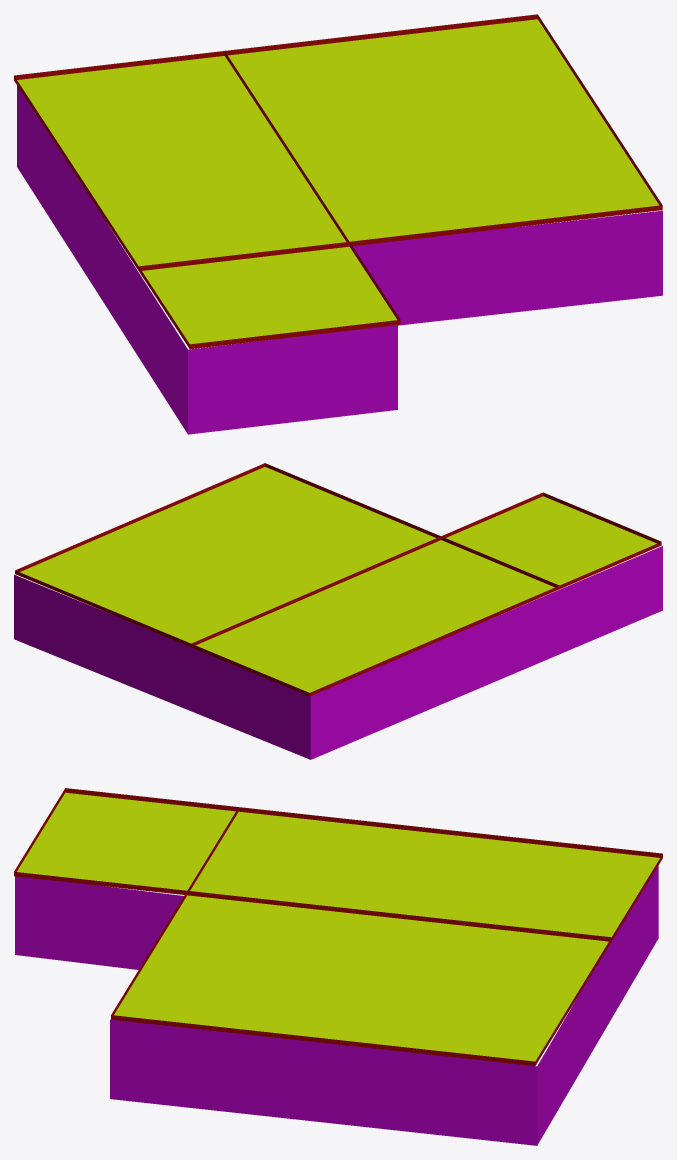
The model's file is bgj_16.glb.
The picture shows the model from 3 angles, top to bottom: view 1: azimuth 30°, elevation 25°; view 2: azimuth 150°, elevation 25°; view 3: azimuth 270°, elevation 25°; orthographic projection. The views are drawn at different scales.
Visible parts, largest first — view 1: bgj_16; view 2: bgj_16; view 3: bgj_16.
Boxes of the visible parts, x1,y1,x2,y2 form: bgj_16: [14, 14, 662, 434]; bgj_16: [14, 463, 662, 759]; bgj_16: [14, 788, 662, 1145].
Size of the model in its own units: 44.71 by 6.39 by 44.67.
